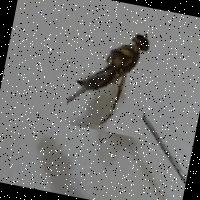Oriental-fruit-fly: (63, 15, 160, 138)
